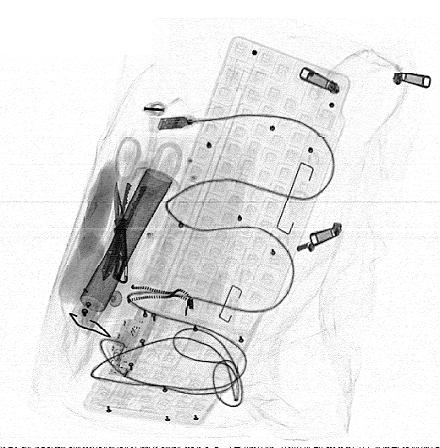Knife: (113, 180, 128, 283)
Scissors: (102, 136, 182, 281)
